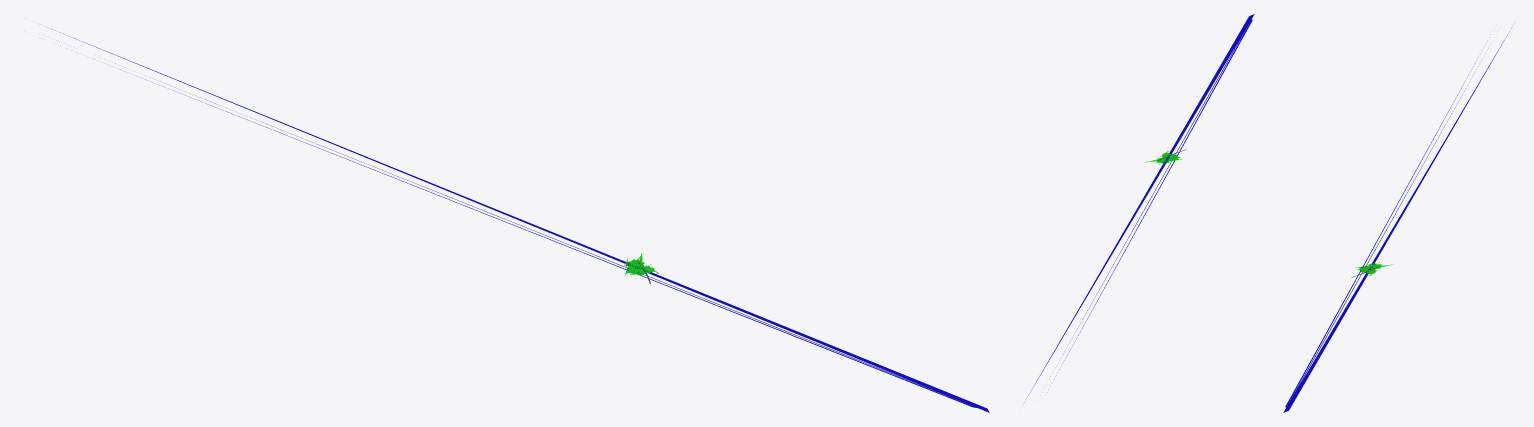
3 renders of one model, left to right at view 1: azimuth 30°, elevation 25°; view 2: azimuth 150°, elevation 25°; view 3: azimuth 330°, elevation 25°, orthographic. The views are drawn at different scales.
Bounding box in the file's own units: 2037 × 2.3 × 6778.
